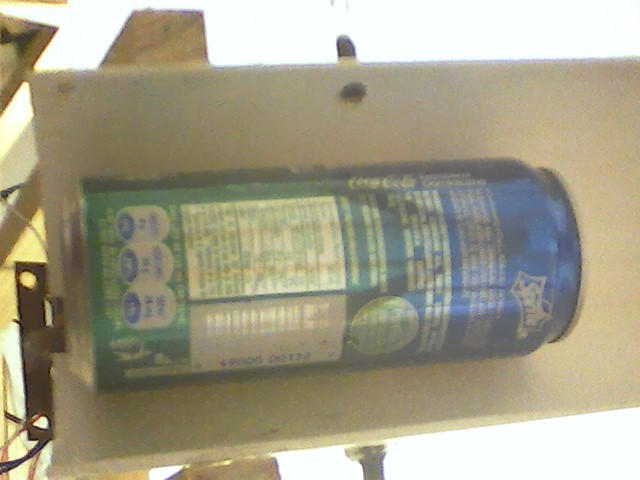lata: (62, 153, 598, 392)
